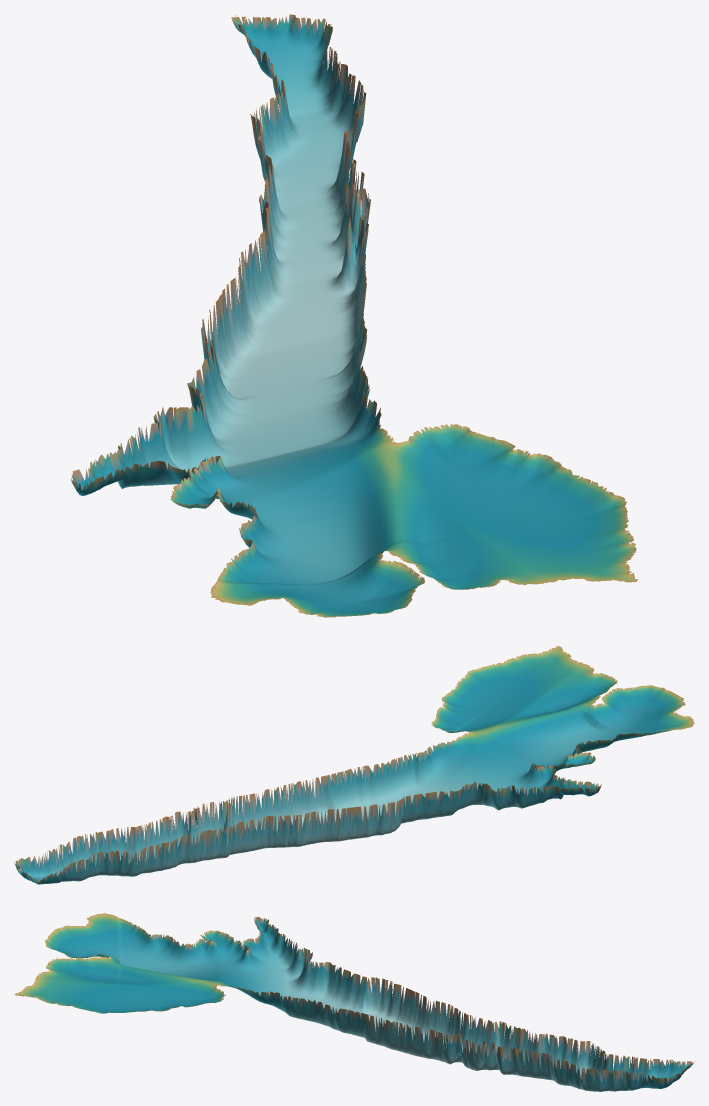
Rendered from lake-garda-v6.glb.
3 views of the same model, one above another, from view 1: azimuth 30°, elevation 25°; view 2: azimuth 150°, elevation 25°; view 3: azimuth 270°, elevation 25° (orthographic). The views are drawn at different scales.
Size of the model in its own units: 28.47 by 2.77 by 49.48.
